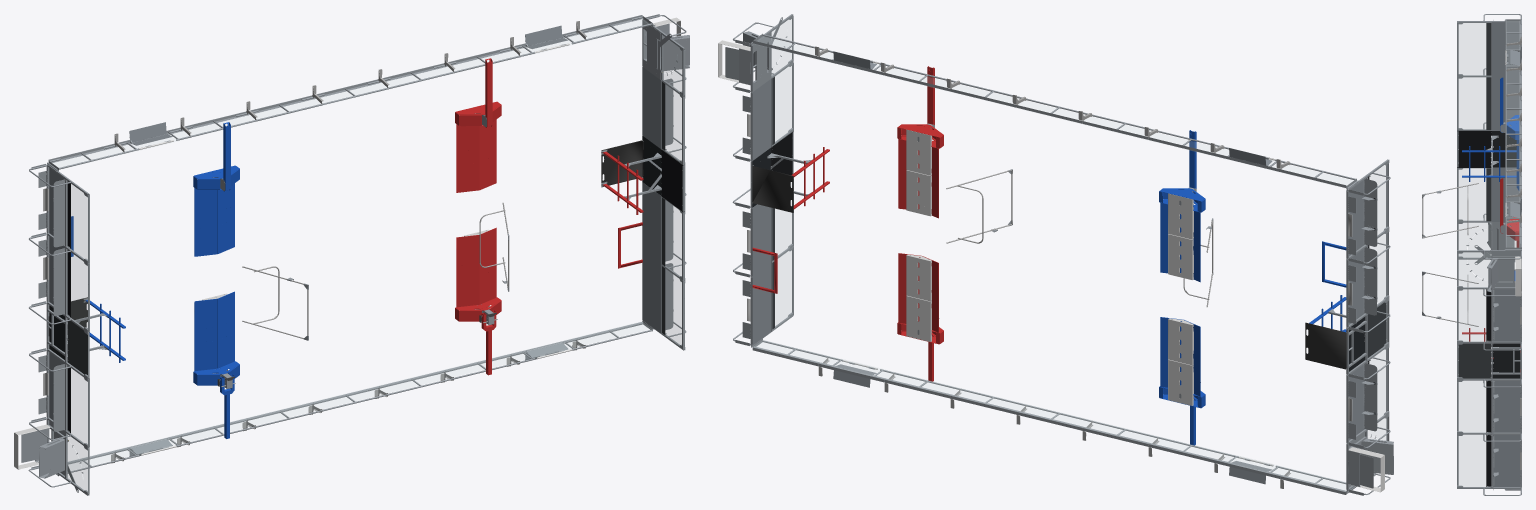
File: 2026-field.glb
3 renders of one model, left to right at view 1: azimuth 30°, elevation 25°; view 2: azimuth 150°, elevation 25°; view 3: azimuth 270°, elevation 25°, orthographic. The views are drawn at different scales.
Visible parts, largest first — view 1: GE-26106-01: Bump Mounting Bulkhead, LH, GE-26506: Tower Upper Plastic, GE-26601-02: Depot, Side Tube (×2), FE-00004-01: 3/16" Diamond Plate Sheet, 6061 Aluminum, GE-26511-Vinyl: Tower Upper Plastic Vinyl, GE-26216-01: Trench Arm Pin Body, GE-26501-01: Tower Base Bottom, GE-26505: Tower Lower Plastic, GE-26104: Bump Center Rib; view 2: GE-26106-01: Bump Mounting Bulkhead, LH, GE-26506: Tower Upper Plastic, GE-26104: Bump Center Rib, GE-26601-02: Depot, Side Tube (×2), FE-00004-01: 3/16" Diamond Plate Sheet, 6061 Aluminum, GE-26501-01: Tower Base Bottom, GE-26216-01: Trench Arm Pin Body, GE-26511-Vinyl: Tower Upper Plastic Vinyl, GE-26505: Tower Lower Plastic; view 3: GE-26506: Tower Upper Plastic, FE-00004-01: 3/16" Diamond Plate Sheet, 6061 Aluminum, GE-26106-01: Bump Mounting Bulkhead, LH, GE-26511-Vinyl: Tower Upper Plastic Vinyl, GE-26601-02: Depot, Side Tube (×2), GE-26505: Tower Lower Plastic, GE-26216-01: Trench Arm Pin Body, GE-26104: Bump Center Rib.
Boxes of the visible parts, <box> form: GE-26106-01: Bump Mounting Bulkhead, LH: <box>21,14,689,495</box>; GE-26506: Tower Upper Plastic: <box>53,19,681,490</box>; GE-26601-02: Depot, Side Tube (×2): <box>71,58,643,438</box>; FE-00004-01: 3/16" Diamond Plate Sheet, 6061 Aluminum: <box>49,25,660,456</box>; GE-26511-Vinyl: Tower Upper Plastic Vinyl: <box>67,82,683,432</box>; GE-26216-01: Trench Arm Pin Body: <box>111,21,586,463</box>; GE-26501-01: Tower Base Bottom: <box>48,140,643,341</box>; GE-26505: Tower Lower Plastic: <box>49,135,661,359</box>; GE-26104: Bump Center Rib: <box>14,17,680,469</box>; GE-26106-01: Bump Mounting Bulkhead, LH: <box>725,14,1393,495</box>; GE-26506: Tower Upper Plastic: <box>754,19,1386,491</box>; GE-26104: Bump Center Rib: <box>718,40,1384,492</box>; GE-26601-02: Depot, Side Tube (×2): <box>752,66,1346,445</box>; FE-00004-01: 3/16" Diamond Plate Sheet, 6061 Aluminum: <box>752,51,1364,484</box>; GE-26501-01: Tower Base Bottom: <box>752,166,1346,369</box>; GE-26216-01: Trench Arm Pin Body: <box>815,46,1290,488</box>; GE-26511-Vinyl: Tower Upper Plastic Vinyl: <box>771,77,1386,363</box>; GE-26505: Tower Lower Plastic: <box>752,148,1375,414</box>; GE-26506: Tower Upper Plastic: <box>1458,21,1518,486</box>; FE-00004-01: 3/16" Diamond Plate Sheet, 6061 Aluminum: <box>1492,22,1521,486</box>; GE-26106-01: Bump Mounting Bulkhead, LH: <box>1422,14,1521,495</box>; GE-26511-Vinyl: Tower Upper Plastic Vinyl: <box>1457,23,1491,486</box>; GE-26601-02: Depot, Side Tube (×2): <box>1462,77,1520,372</box>; GE-26505: Tower Lower Plastic: <box>1492,131,1520,476</box>; GE-26216-01: Trench Arm Pin Body: <box>1422,37,1521,326</box>; GE-26104: Bump Center Rib: <box>1505,50,1521,296</box>.
Bounding box in the file's own units: 18.46 × 8.74 × 3.06.
